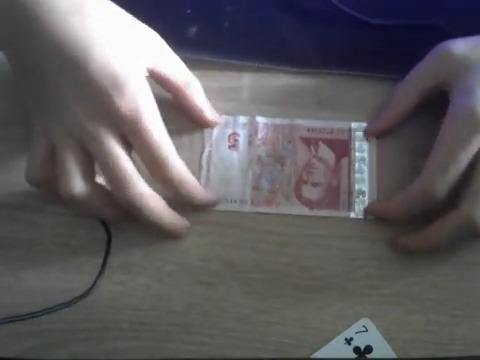5leva: (292, 131, 351, 216)
